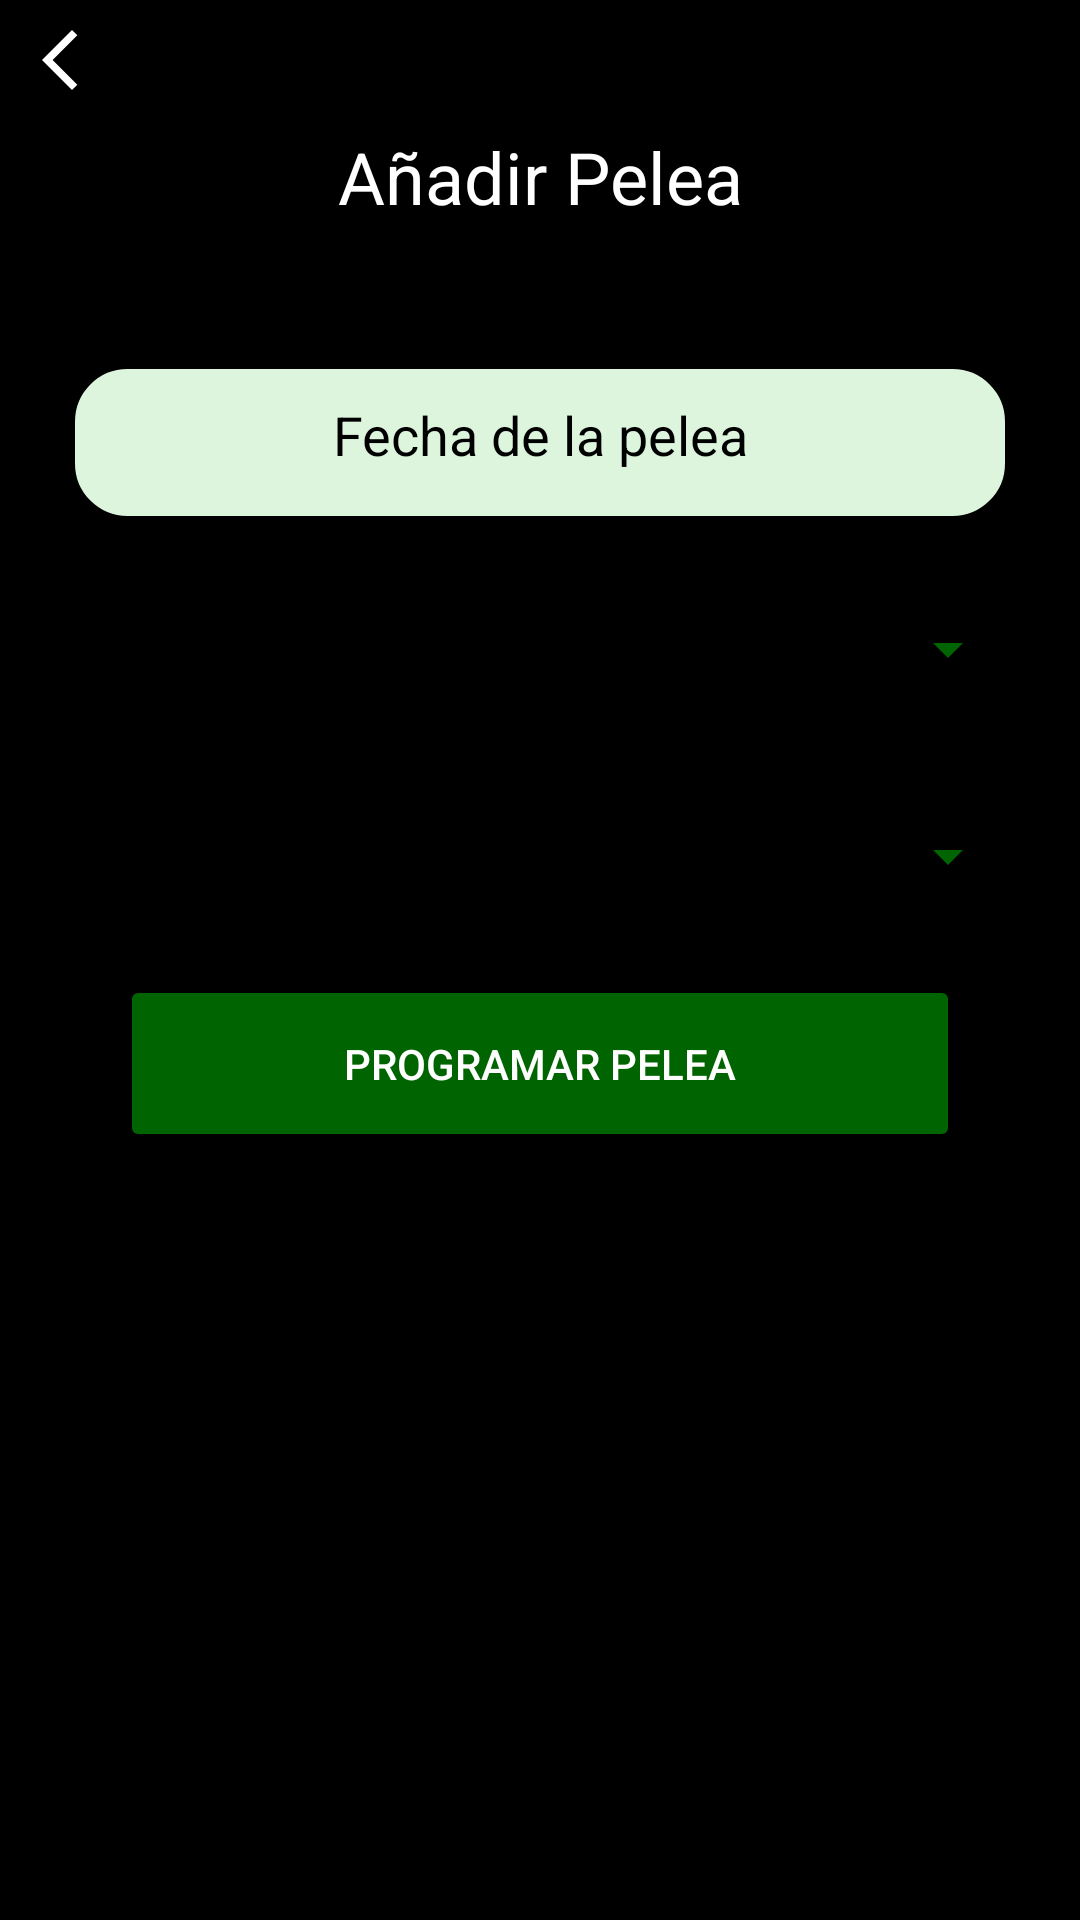

Icon bounding boxes for this 1080px×1920px phone screenshot, format [left=x1, top=y1, right=x2, bottom=y2]:
flechita atras blanco: [left=42, top=30, right=77, bottom=90]
